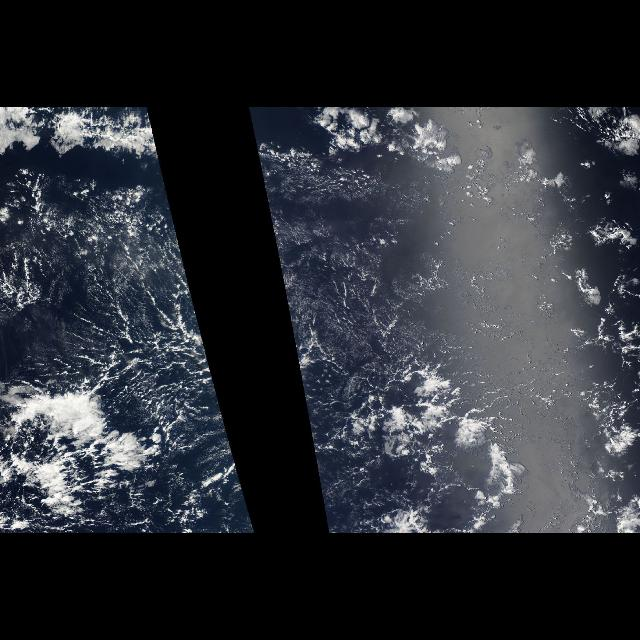Gravel: (59, 239, 222, 431)
Sugar: (270, 147, 466, 389), (81, 215, 217, 389)
